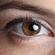eye: (22, 22, 41, 36)
